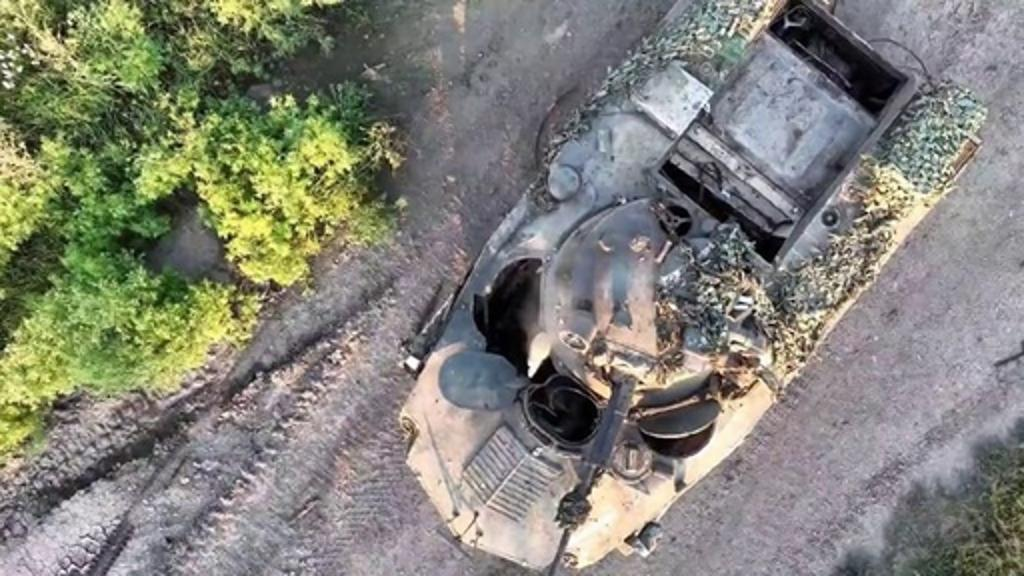APC-IFV: (396, 2, 974, 572)
